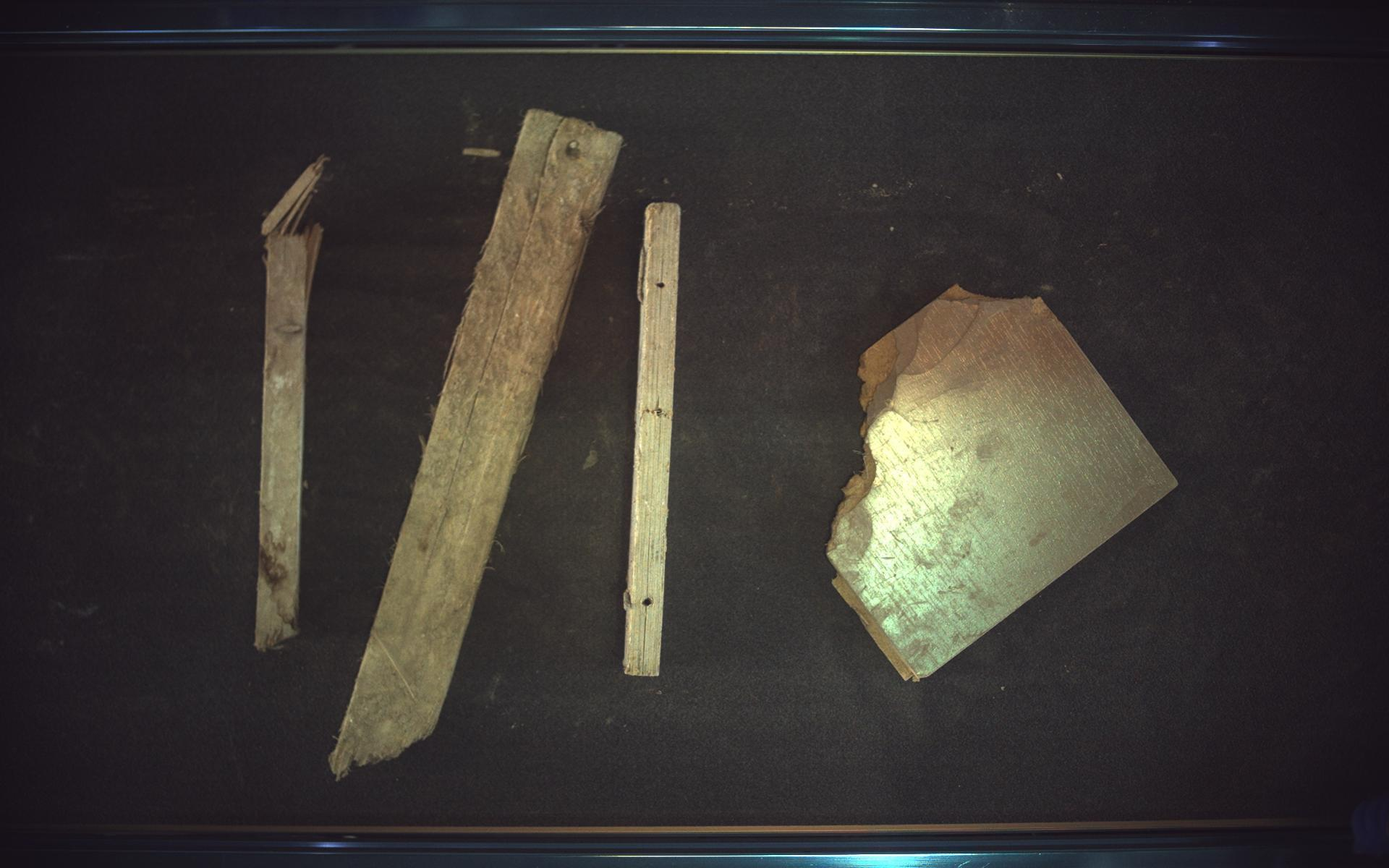wood: (329, 109, 622, 780), (829, 285, 1179, 682), (254, 154, 328, 652), (624, 202, 681, 678)
